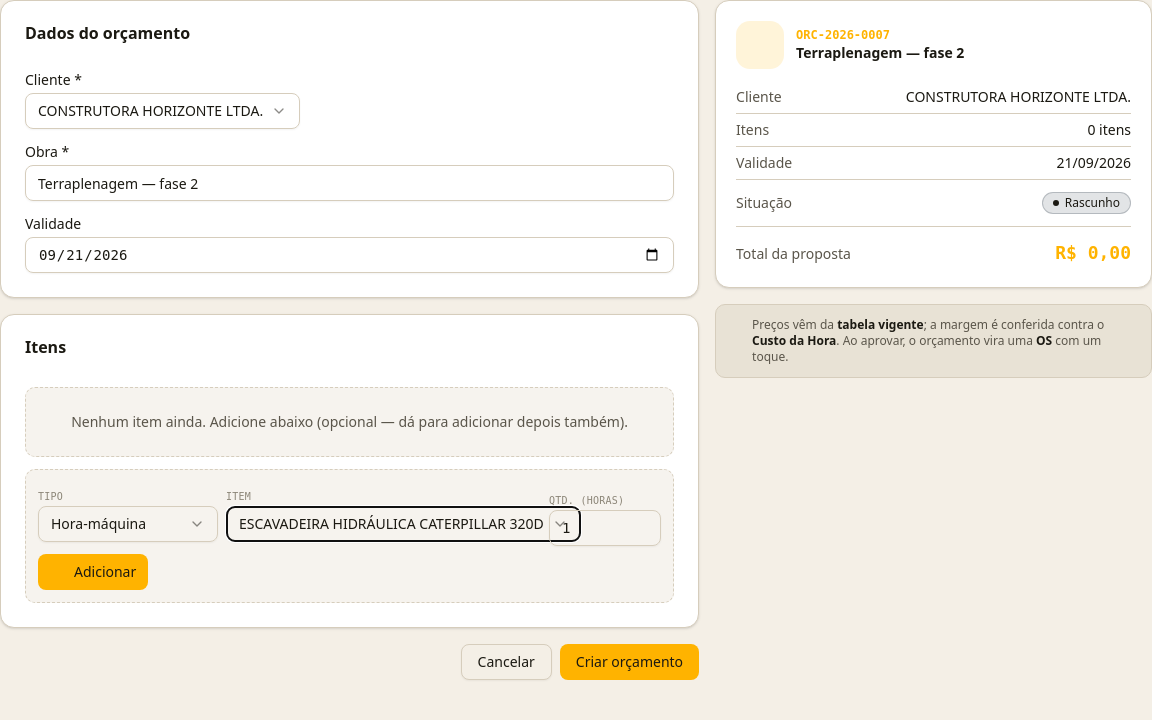
Test: OrcamentoForm › cria o orçamento com os itens adicionados na criação
Earlier steps of the test are not shown.
Later steps or results of the test are not shown.
Click the button "Adicionar" at (93, 572), box x1=38 y1=554 x2=148 y2=590
(page scrolled)
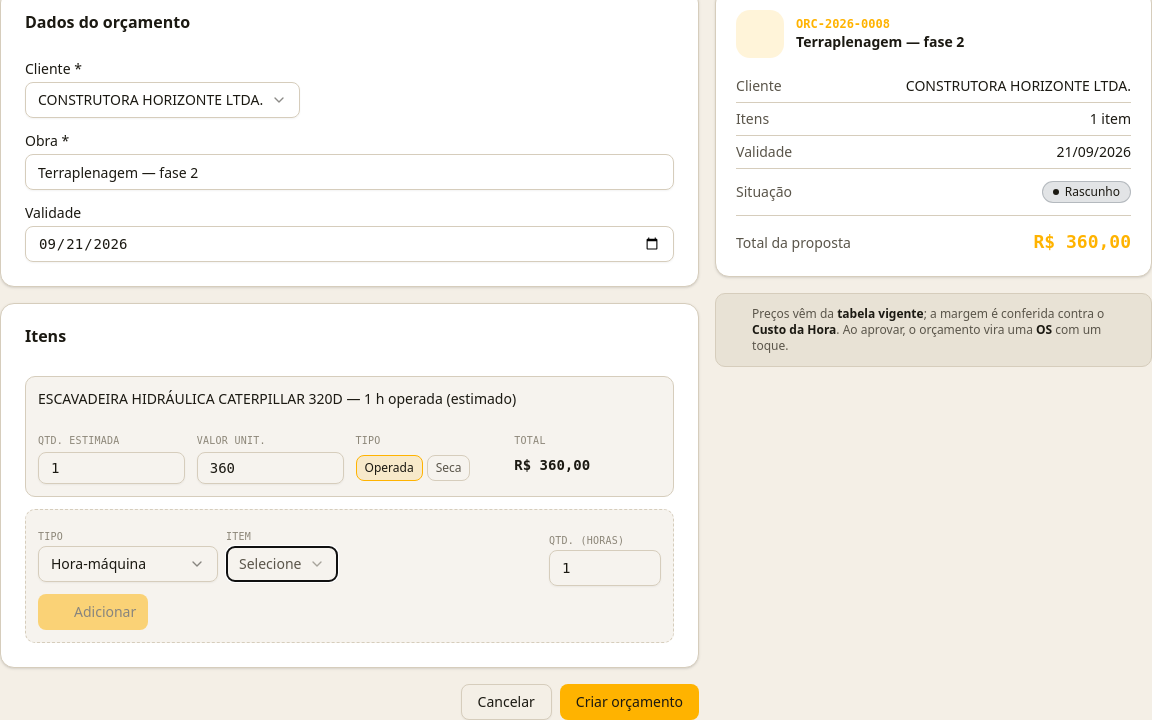
Now the text "1 item" is shown, box x1=1090 y1=109 x2=1131 y2=129
